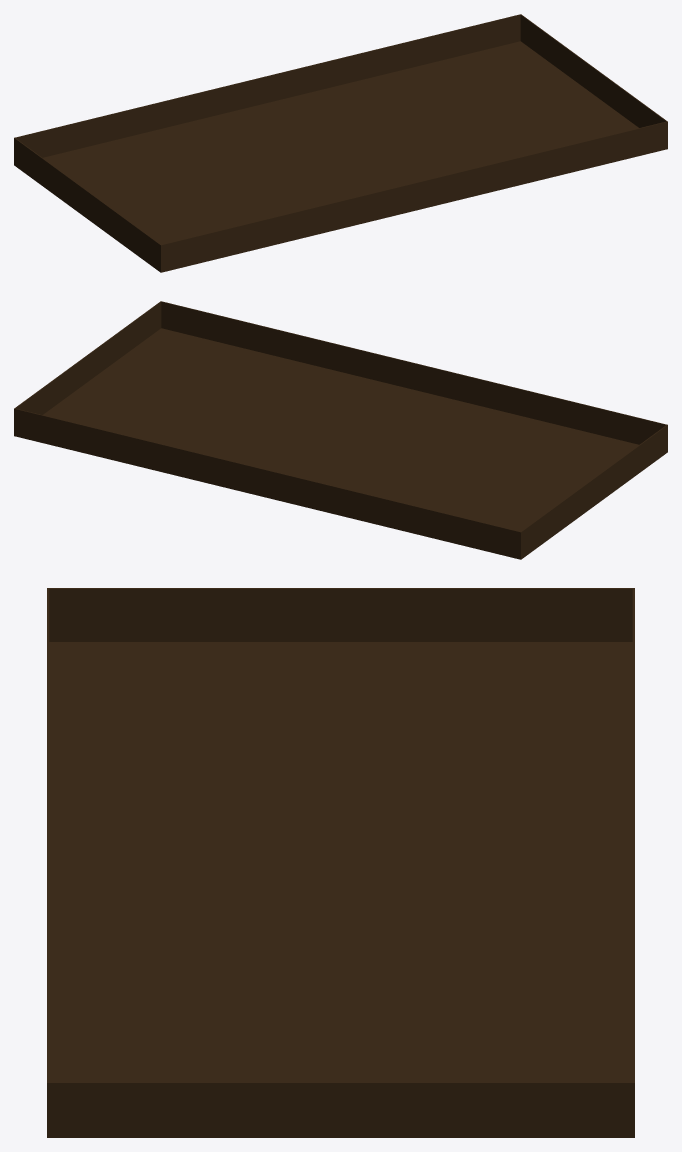
Rendered from Slab formwork A.fbx.
3 views of the same model, one above another, from view 1: azimuth 30°, elevation 25°; view 2: azimuth 150°, elevation 25°; view 3: azimuth 270°, elevation 25° (orthographic). The views are drawn at different scales.
Visible parts, largest first — view 1: Marine board slab.007, Marine board slab.006, Marine board slab.013, Marine board slab.005, Marine board slab.018, Marine board slab.019, Marine board slab.012, Marine board slab.011, Marine board slab.022, Marine board slab.009, Marine board slab.021, Marine board slab.010 (+19 smaller); view 2: Marine board slab A.001, Marine board slab.006, Marine board slab A.002, Marine board slab.005, Marine board slab.013, Marine board slab.018, Marine board slab.010, Marine board slab.009, Marine board slab.021, Marine board slab.019, Marine board slab.007, Marine board slab.011 (+16 smaller); view 3: Marine board slab.016, Marine board slab.014, Marine board slab.005, Marine board slab A.001, Marine board slab.006, Marine board slab.007, Marine board slab A, Marine board slab.001, Marine board slab.002, Marine board slab.003, Marine board slab.013, Marine board slab A.002 (+7 smaller).
Part boxes in pixels (x1,y1,x2,y2): Marine board slab.007: [192, 108, 373, 167]; Marine board slab.006: [222, 131, 403, 189]; Marine board slab.013: [404, 116, 585, 174]; Marine board slab.005: [253, 153, 433, 211]; Marine board slab.018: [374, 94, 554, 152]; Marine board slab.019: [343, 71, 524, 130]; Marine board slab.012: [161, 208, 313, 272]; Marine board slab.011: [313, 171, 464, 235]; Marine board slab.022: [464, 134, 616, 198]; Marine board slab.009: [167, 63, 318, 127]; Marine board slab.021: [318, 26, 469, 90]; Marine board slab.010: [15, 100, 166, 157]; Marine board slab A.001: [333, 377, 514, 436]; Marine board slab.006: [273, 422, 453, 480]; Marine board slab A.002: [182, 340, 362, 399]; Marine board slab.005: [303, 399, 483, 458]; Marine board slab.013: [151, 362, 332, 421]; Marine board slab.018: [121, 385, 302, 443]; Marine board slab.010: [368, 495, 520, 559]; Marine board slab.009: [217, 458, 368, 522]; Marine board slab.021: [65, 421, 217, 485]; Marine board slab.019: [93, 407, 271, 464]; Marine board slab.007: [245, 444, 423, 501]; Marine board slab.011: [363, 350, 514, 414]; Marine board slab.016: [47, 1082, 396, 1137]; Marine board slab.014: [47, 588, 396, 641]; Marine board slab.005: [170, 789, 291, 937]; Marine board slab A.001: [49, 789, 170, 937]; Marine board slab.006: [291, 789, 412, 937]; Marine board slab.007: [412, 789, 533, 937]; Marine board slab A: [49, 642, 170, 789]; Marine board slab.001: [170, 642, 291, 789]; Marine board slab.002: [291, 642, 412, 789]; Marine board slab.003: [412, 642, 533, 789]; Marine board slab.013: [170, 937, 291, 1081]; Marine board slab A.002: [49, 937, 170, 1081].
Size of the model in its own units: 1004 by 51.9 by 504.
